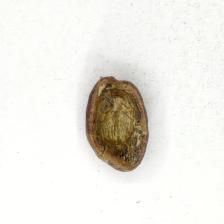NG: (94, 76, 146, 168)
